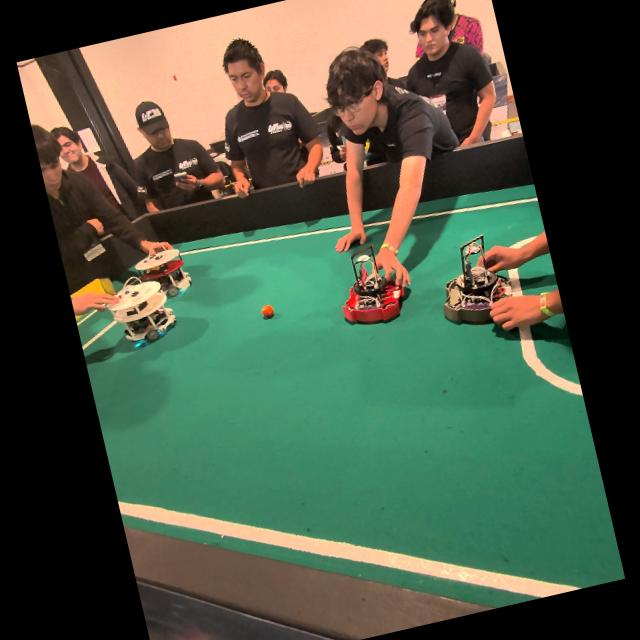ball: (260, 305, 272, 318)
goal: (69, 278, 115, 297)
robot: (442, 234, 510, 323), (341, 245, 401, 323), (107, 277, 174, 342), (136, 246, 194, 297)
